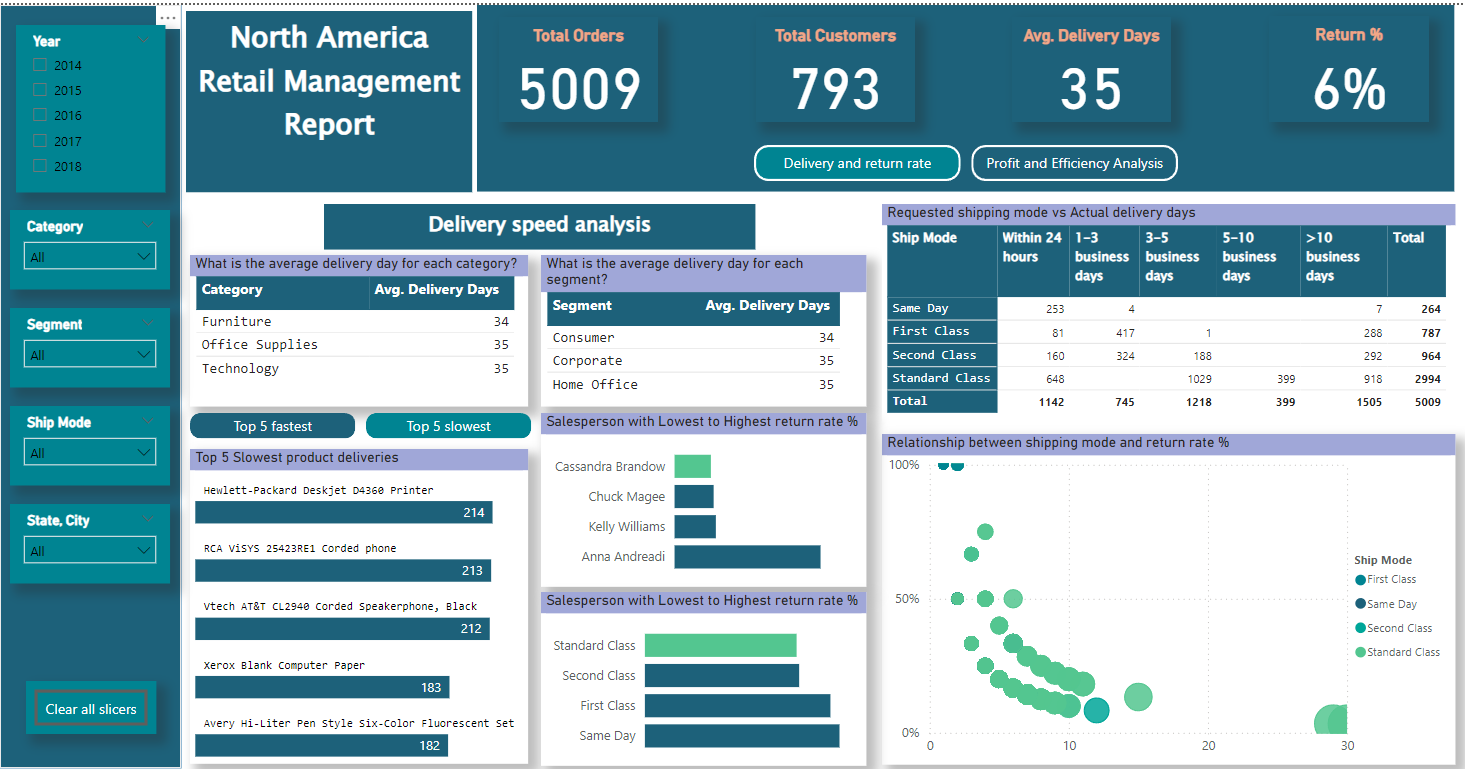

The page's visual inventory and layout, read from the dashboard file:
{"tool":"powerbi","page":{"name":"Delivery and return rate","canvas":[1400,720],"ordinal":0},"visuals":[{"type":"shape","box":[450.1,0,922.2,176.4],"z":0},{"type":"card","title":"Total Orders","fields":{"Values":["_measure table.total orders"]},"box":[471,11,150,99],"z":1000},{"type":"card","title":"Total Customers","fields":{"Values":["_measure table.total customers"]},"box":[713,11,150,99],"z":2000},{"type":"card","title":"Avg. Delivery Days","fields":{"Values":["_measure table.avg delivery days"]},"box":[955,11,150,99],"z":3000},{"type":"card","title":"Return %","fields":{"Values":["_measure table.Return rate %"]},"box":[1197,10,151,100],"z":4000},{"type":"tableEx","title":"What is the average delivery day for each category?","fields":{"Values":["dim_products.Category","_measure table.avg delivery days"]},"box":[179.3,235.6,319.5,143.1],"z":5000},{"type":"tableEx","title":"What is the average delivery day for each segment?","fields":{"Values":["dim_customer.Segment","_measure table.avg delivery days"]},"box":[510.2,235.6,307.1,143.1],"z":6000},{"type":"pivotTable","title":"Requested shipping mode vs Actual delivery days","fields":{"Values":["_measure table.total orders"],"Rows":["ShipMode_sort.Ship Mode"],"Columns":["delivery_sort.Delivery"]},"box":[831.6,187.9,540.7,206],"z":7000},{"type":"clusteredBarChart","title":"Top 5 Slowest product deliveries","fields":{"Category":["dim_products.Product Name"],"Y":["_measure table.label","_measure table.avg delivery days"]},"box":[179.7,419.3,319.4,297],"z":9000},{"type":"scatterChart","title":"Relationship between shipping mode and return rate %","fields":{"Y":["_measure table.Return rate %"],"Size":["_measure table.total orders"],"X":["_measure table.total orders"],"Category":["dim_products.Product Name"],"Series":["fact_retaildata.Ship Mode"]},"box":[831.6,404.4,540.7,311.9],"z":10000},{"type":"barChart","title":"Salesperson with Lowest to Highest return rate %","fields":{"Category":["dim_salespeople.Retail Sales People"],"Y":["_measure table.Return rate %"]},"box":[510.2,385.3,307.1,164],"z":11000},{"type":"barChart","title":"Salesperson with Lowest to Highest return rate %","fields":{"Y":["_measure table.Return rate %"],"Category":["fact_retaildata.Ship Mode"]},"box":[510.2,554.1,307.1,164],"z":12000},{"type":"shape","box":[0,0,171,720],"z":13000},{"type":"slicer","fields":{"Values":["Calendar Table.Year"]},"box":[15.2,18.8,141.5,157.6],"z":14000},{"type":"slicer","fields":{"Values":["dim_products.Category"]},"box":[9.9,193.7,151.3,75.2],"z":15000},{"type":"slicer","fields":{"Values":["dim_customer.Segment"]},"box":[9.9,286.1,151.3,75.2],"z":16000},{"type":"slicer","fields":{"Values":["fact_retaildata.Ship Mode"]},"box":[9.9,378.6,151.3,75.2],"z":17000},{"type":"slicer","fields":{"Values":["dim_location.State","dim_location.City"]},"box":[9.9,471,151.3,75.2],"z":18000},{"type":"actionButton","box":[24.2,637.6,122.7,50.1],"z":19000},{"type":"textbox","box":[175.5,5.4,270.4,171],"z":20000},{"type":"textbox","box":[306.1,187.9,407.2,42.9],"z":21000},{"type":"bookmarkNavigator","box":[179.3,385.3,323.3,24.8],"z":22000},{"type":"pageNavigator","box":[711,132,400,34],"z":22001}]}

Visuals, with their boxes in screenshot pixels (x1, y1, x2, y2), scaled from the page's 1400x720 canvas onto the 1465x769 screenshot:
shape: x1=471, y1=0, x2=1436, y2=188
"Total Orders" card: x1=493, y1=12, x2=650, y2=117
"Total Customers" card: x1=746, y1=12, x2=903, y2=117
"Avg. Delivery Days" card: x1=999, y1=12, x2=1156, y2=117
"Return %" card: x1=1253, y1=11, x2=1411, y2=117
"What is the average delivery day for each category?" tableEx: x1=188, y1=252, x2=522, y2=404
"What is the average delivery day for each segment?" tableEx: x1=534, y1=252, x2=855, y2=404
"Requested shipping mode vs Actual delivery days" pivotTable: x1=870, y1=201, x2=1436, y2=421
"Top 5 Slowest product deliveries" clusteredBarChart: x1=188, y1=448, x2=522, y2=765
"Relationship between shipping mode and return rate %" scatterChart: x1=870, y1=432, x2=1436, y2=765
"Salesperson with Lowest to Highest return rate %" barChart: x1=534, y1=412, x2=855, y2=587
"Salesperson with Lowest to Highest return rate %" barChart: x1=534, y1=592, x2=855, y2=767
shape: x1=0, y1=0, x2=179, y2=768
slicer - Calendar Table.Year: x1=16, y1=20, x2=164, y2=188
slicer - dim_products.Category: x1=10, y1=207, x2=169, y2=287
slicer - dim_customer.Segment: x1=10, y1=306, x2=169, y2=386
slicer - fact_retaildata.Ship Mode: x1=10, y1=404, x2=169, y2=485
slicer - dim_location.State x dim_location.City: x1=10, y1=503, x2=169, y2=583
actionButton: x1=25, y1=681, x2=154, y2=735
textbox: x1=184, y1=6, x2=467, y2=188
textbox: x1=320, y1=201, x2=746, y2=247
bookmarkNavigator: x1=188, y1=412, x2=526, y2=438
pageNavigator: x1=744, y1=141, x2=1163, y2=177
